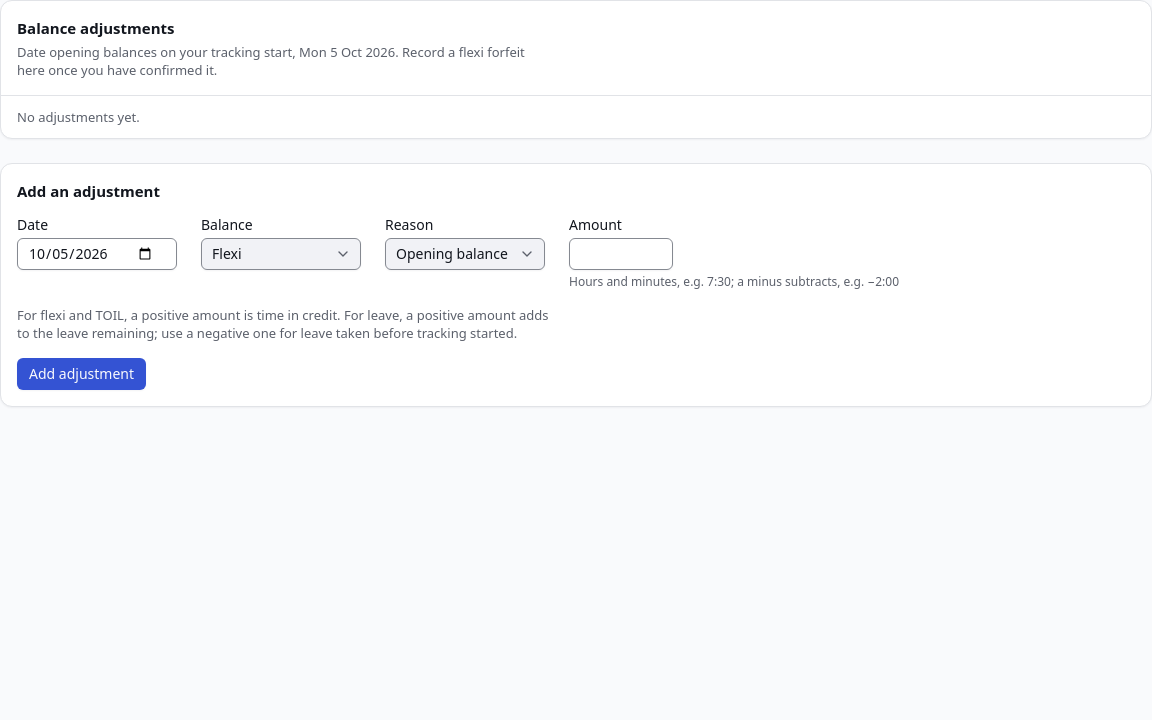
Test: BalancesTab › adds a signed adjustment dated on the tracking start
The image size is (1152, 720).
Expected: the text "No adjustments yet." is shown, [17, 108, 140, 126]
Expected: the text "Date opening balances on your tracking start, Mon 5 Oct 2026" is shown, [17, 43, 402, 61]
Select "TOIL" in the dropdown labelled "Balance" at (281, 254), box [201, 238, 361, 270]
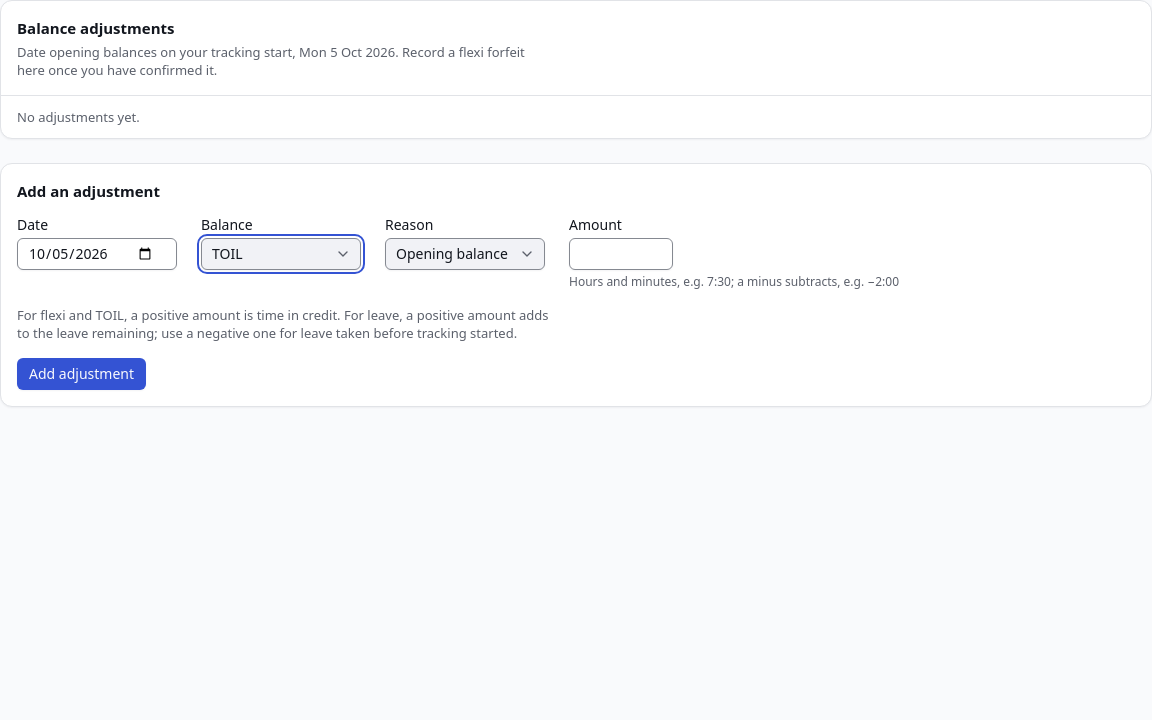
Type "-1:30" into the field labelled "Amount" at (621, 254), box [569, 238, 673, 270]
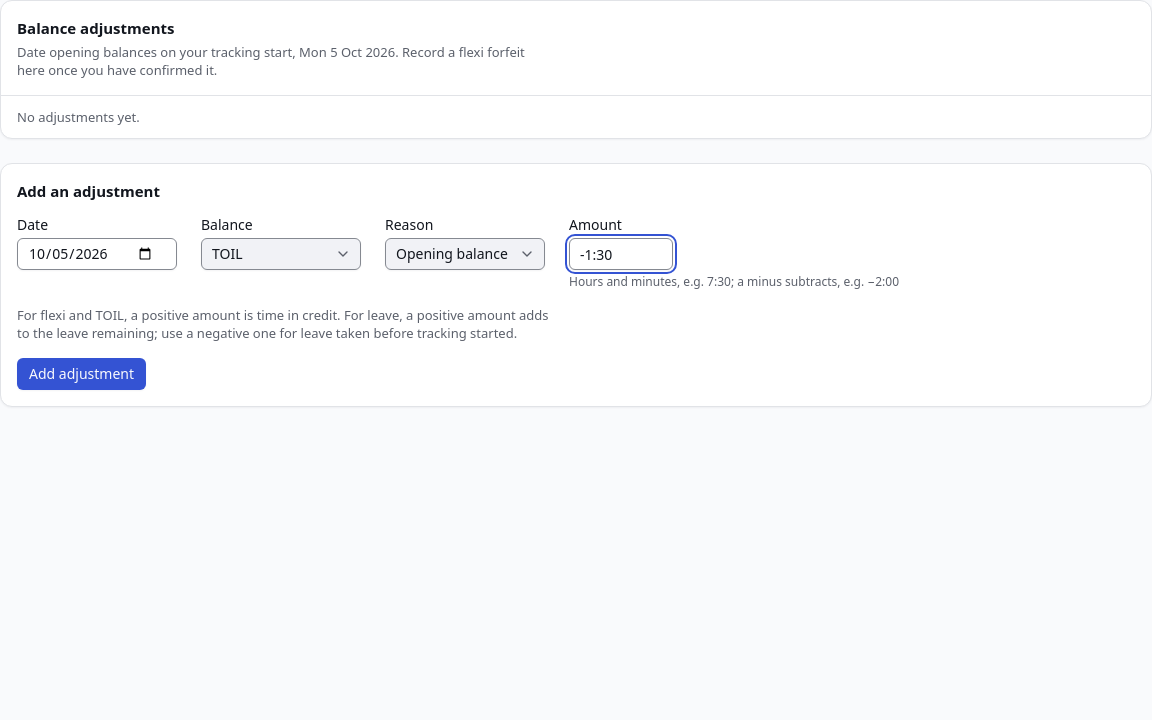
Click the button "Add adjustment" at (82, 374), box [17, 358, 146, 390]
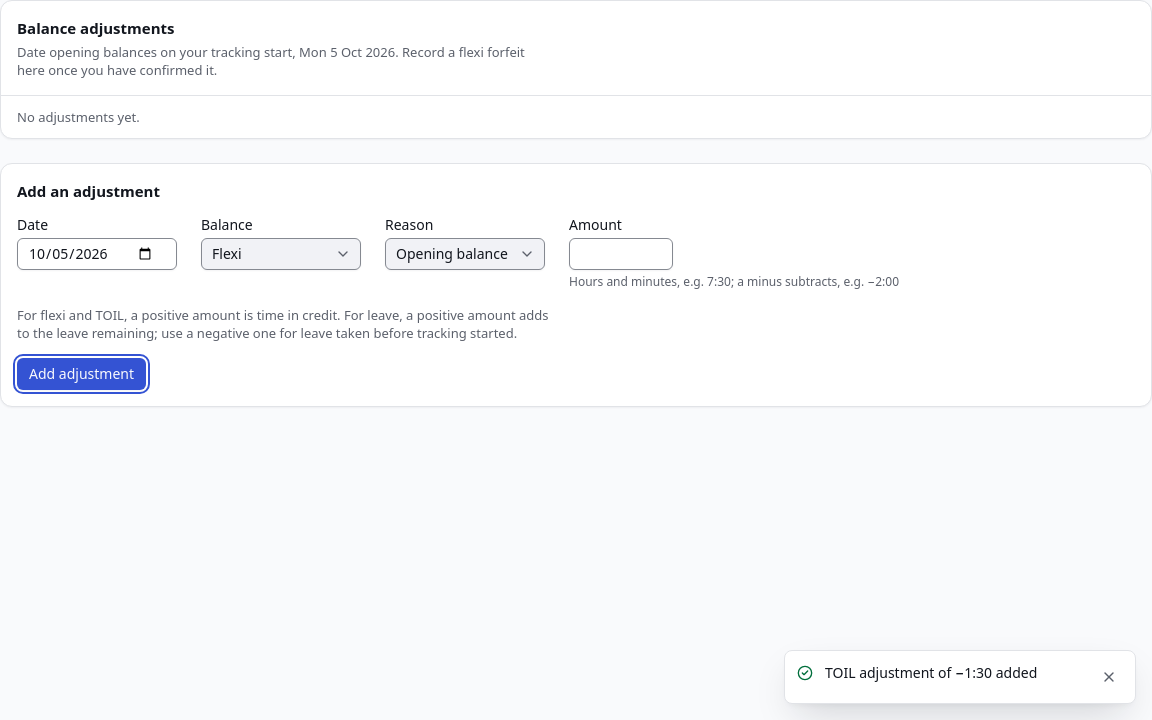
Result: the text "TOIL adjustment of −1:30 added" is shown at [825, 663, 1037, 682]
